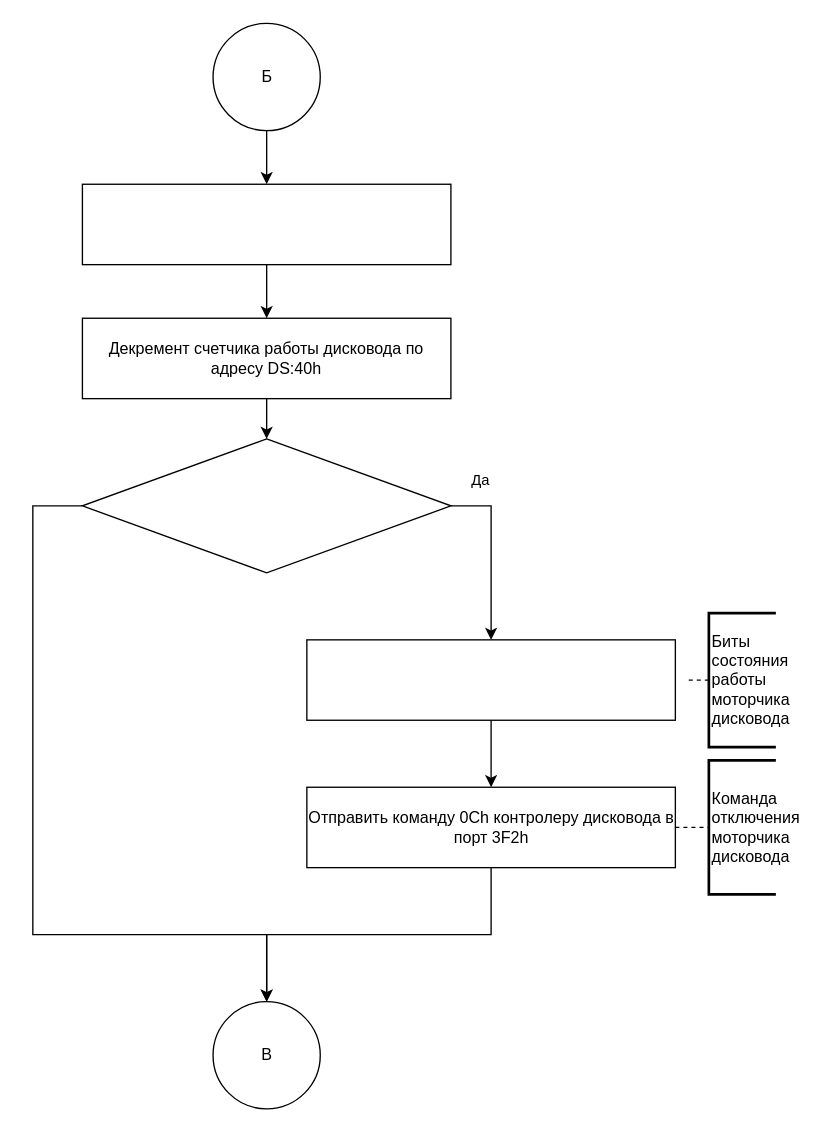
This 827x1132 diagram has some shape labels left out. Each missing label, with the centre of its shape:
"Сбросить 4 младших бита байта по адресу DS:3Fh" goes at point 490,679.
"Сохранить регистр AX" goes at point 266,224.
"Счетчик работы дисковода по адресу DS:40h = 0?" goes at point 266,505.
